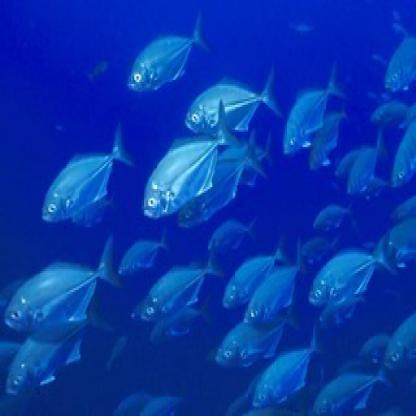jack: (141, 95, 247, 219), (3, 230, 125, 337), (37, 122, 144, 221), (126, 1, 218, 95), (139, 236, 230, 325), (305, 221, 396, 310), (246, 320, 328, 415), (243, 236, 314, 327)
